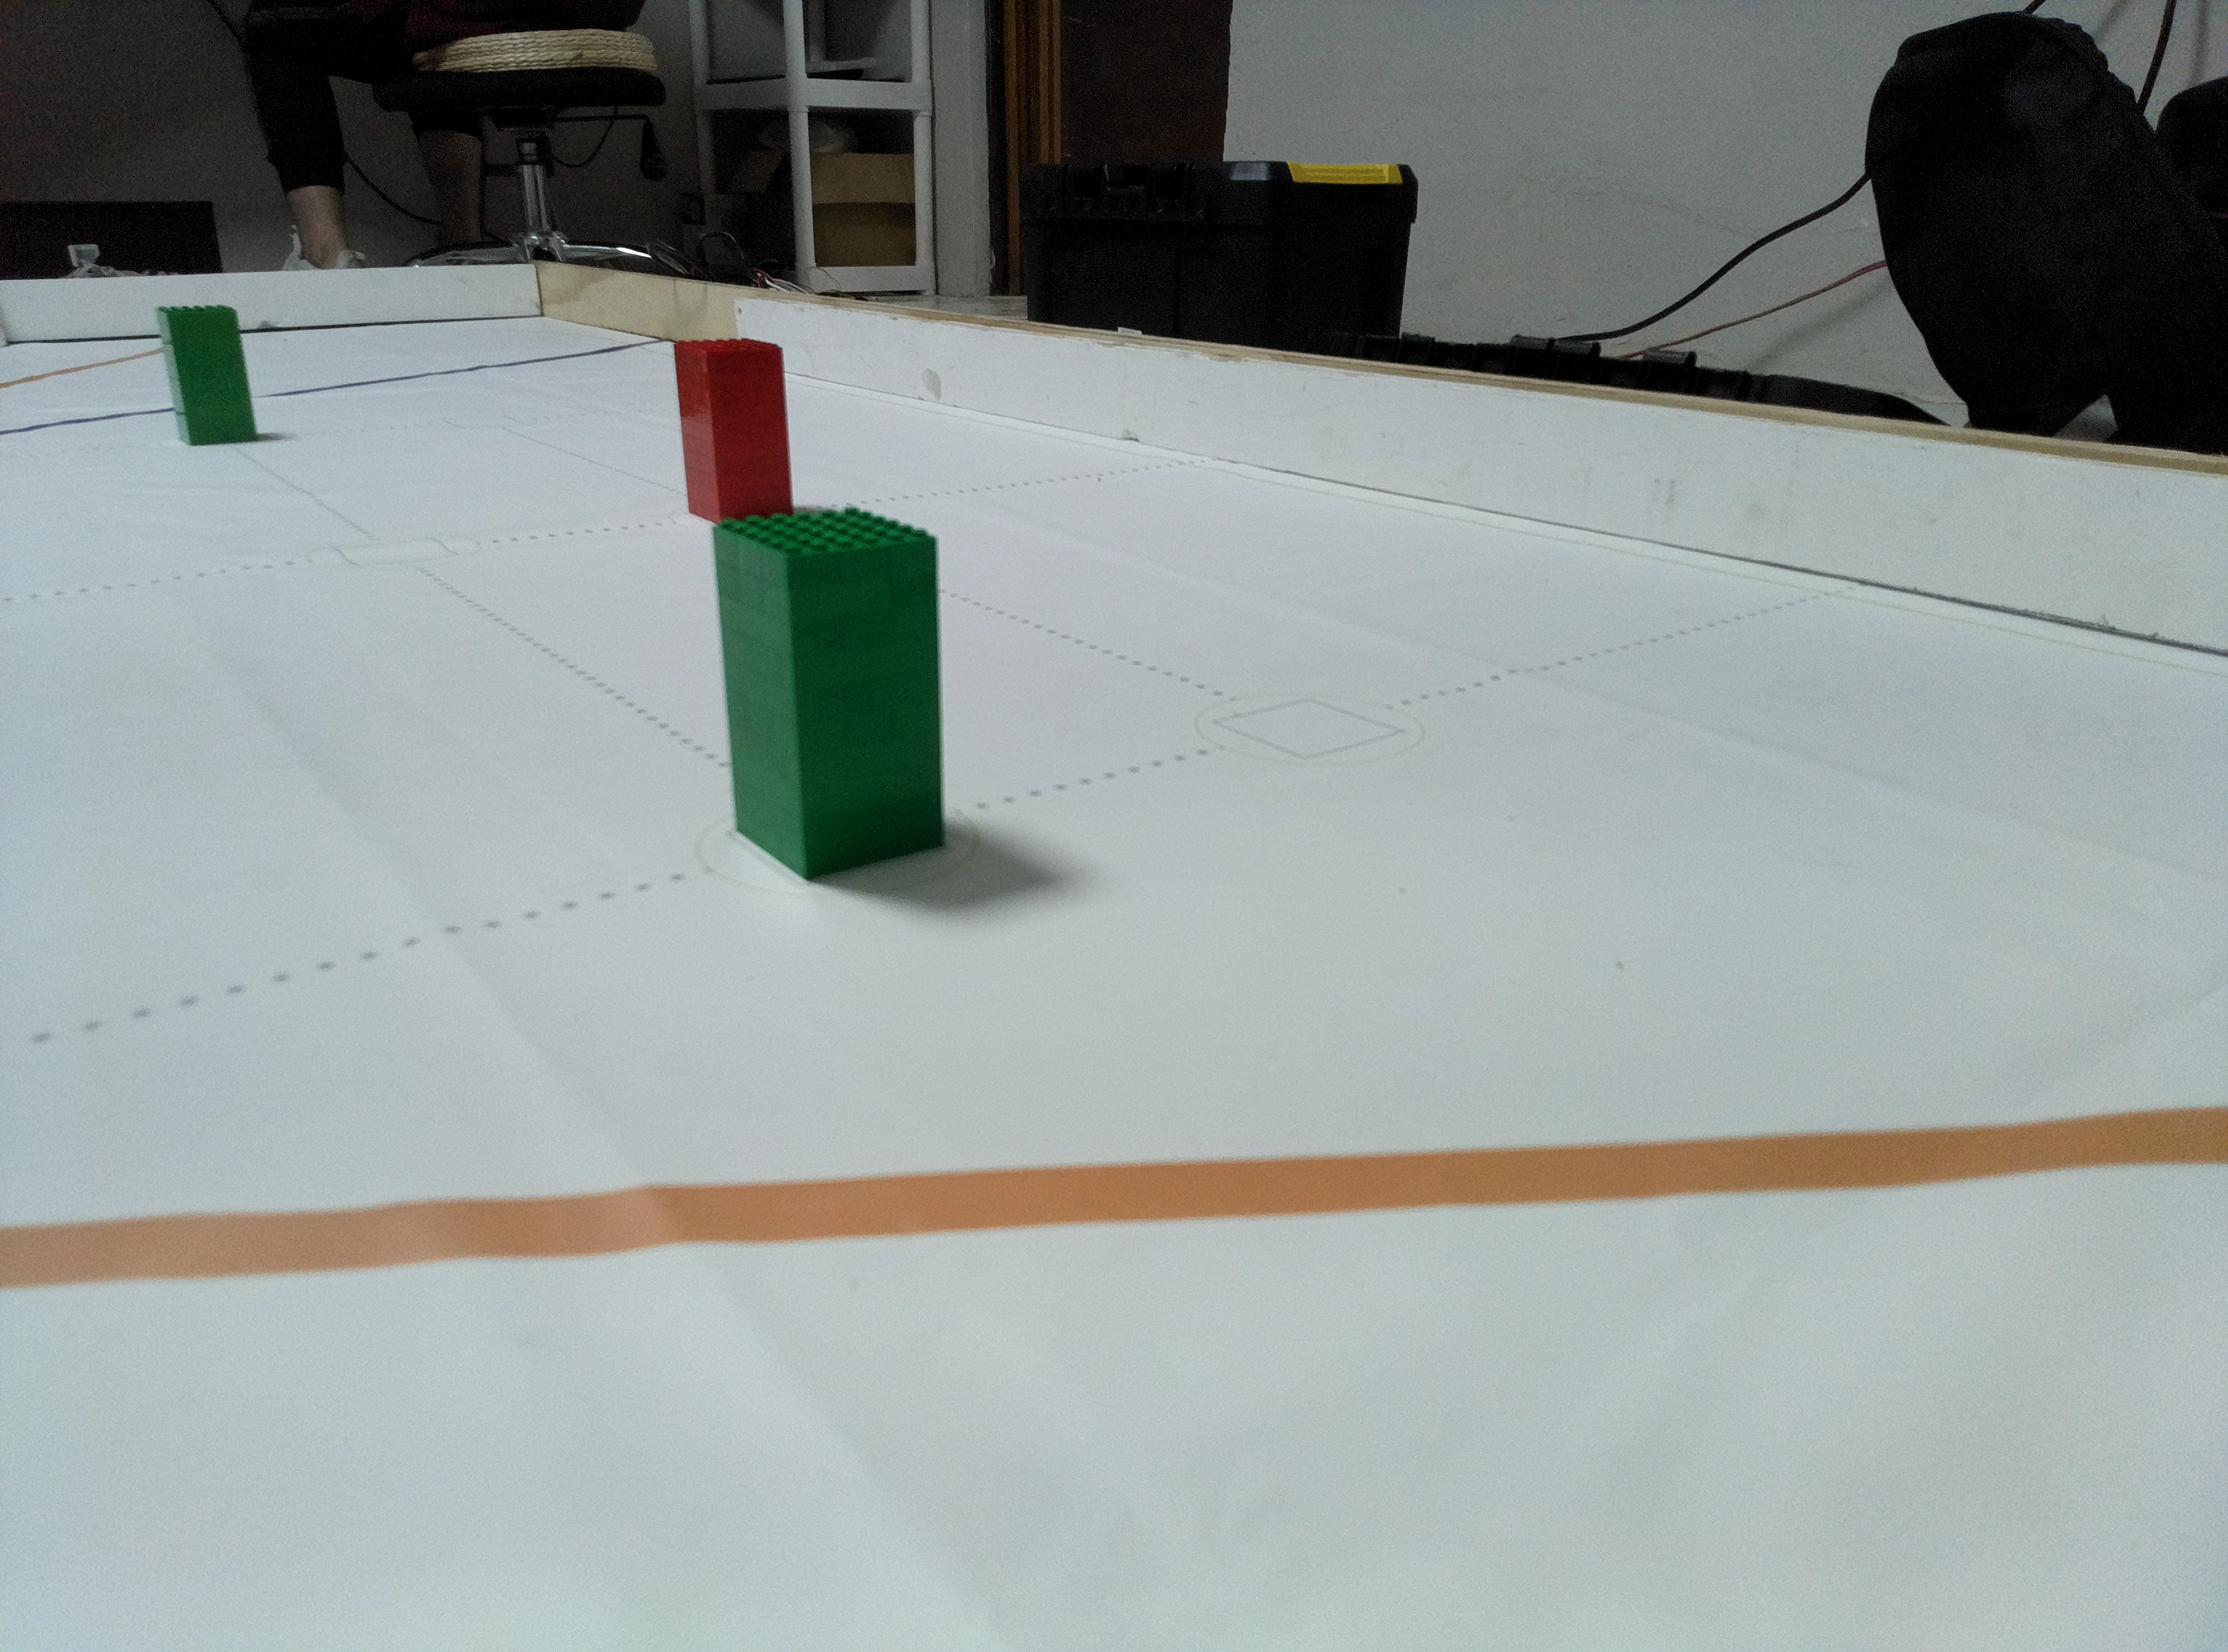greenbox: (710, 496, 958, 885), (154, 302, 271, 444)
redbox: (672, 330, 791, 517)
